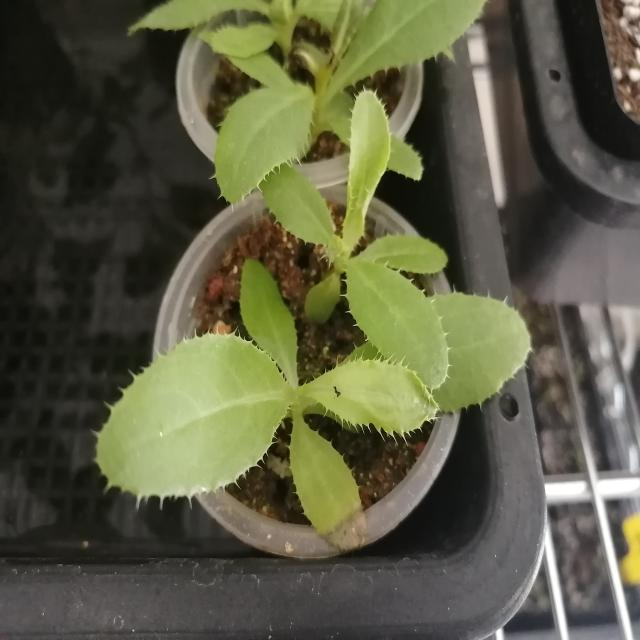field_thistle: (83, 114, 510, 508)
